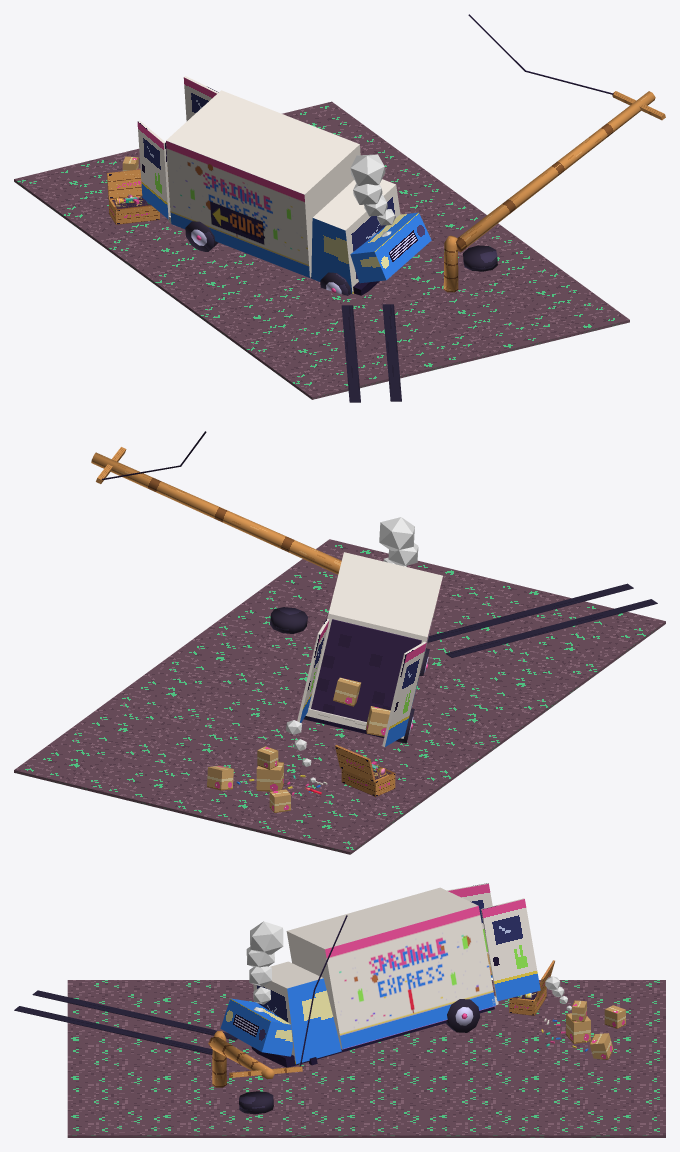
Rendered from Gun Crate Wreck.fbx.
The picture shows the model from 3 angles, top to bottom: view 1: azimuth 30°, elevation 25°; view 2: azimuth 150°, elevation 25°; view 3: azimuth 270°, elevation 25°; orthographic projection. The views are drawn at different scales.
Visible parts, largest first — view 1: Gun Crate Wreck shoulder, Gun Crate Wreck van box, Gun Crate Wreck van cab, Gun Crate Wreck van hood.001, Gun Crate Wreck fallen pole.001, Gun Crate Wreck rear door -1.001, Gun Crate Wreck skid mark 1, Gun Crate Wreck skid mark 0, Gun Crate Wreck crate lid.001, Gun Crate Wreck van smoke 4, Gun Crate Wreck gun crate.001, Gun Crate Wreck rear door 1.001 (+2 smaller); view 2: Gun Crate Wreck shoulder, Gun Crate Wreck van box, Gun Crate Wreck rear opening, Gun Crate Wreck fallen pole.001, Gun Crate Wreck rear door -1.001, Gun Crate Wreck skid mark 0, Gun Crate Wreck skid mark 1, Gun Crate Wreck van smoke 4, Gun Crate Wreck gun crate.001, Gun Crate Wreck rear door 1.001, Gun Crate Wreck loose wheel tire, Gun Crate Wreck crate lid.001 (+2 smaller); view 3: Gun Crate Wreck shoulder, Gun Crate Wreck van box, Gun Crate Wreck van cab, Gun Crate Wreck rear door 1.001, Gun Crate Wreck van hood.001, Gun Crate Wreck skid mark 1, Gun Crate Wreck skid mark 0, Gun Crate Wreck van smoke 4, Gun Crate Wreck fallen pole.001, Gun Crate Wreck van chassis, Gun Crate Wreck rear door -1.001, Gun Crate Wreck loose wheel tire (+8 smaller).
Part boxes in pixels (left/top/right/bottom): Gun Crate Wreck shoulder: left=14, top=101, right=629, bottom=399; Gun Crate Wreck van box: left=166, top=90, right=360, bottom=277; Gun Crate Wreck van cab: left=311, top=179, right=400, bottom=294; Gun Crate Wreck van hood.001: left=350, top=212, right=431, bottom=283; Gun Crate Wreck fallen pole.001: left=456, top=91, right=655, bottom=252; Gun Crate Wreck rear door -1.001: left=137, top=120, right=170, bottom=219; Gun Crate Wreck skid mark 1: left=382, top=304, right=401, bottom=401; Gun Crate Wreck skid mark 0: left=341, top=305, right=360, bottom=402; Gun Crate Wreck crate lid.001: left=106, top=169, right=142, bottom=199; Gun Crate Wreck van smoke 4: left=350, top=154, right=385, bottom=185; Gun Crate Wreck gun crate.001: left=109, top=195, right=159, bottom=224; Gun Crate Wreck rear door 1.001: left=183, top=76, right=218, bottom=121; Gun Crate Wreck shoulder: left=14, top=539, right=665, bottom=854; Gun Crate Wreck van box: left=308, top=552, right=442, bottom=708; Gun Crate Wreck rear opening: left=311, top=619, right=421, bottom=721; Gun Crate Wreck fallen pole.001: left=91, top=452, right=341, bottom=574; Gun Crate Wreck rear door -1.001: left=382, top=641, right=426, bottom=747; Gun Crate Wreck skid mark 0: left=445, top=599, right=657, bottom=657; Gun Crate Wreck skid mark 1: left=427, top=583, right=633, bottom=642; Gun Crate Wreck van smoke 4: left=379, top=517, right=414, bottom=551; Gun Crate Wreck gun crate.001: left=341, top=766, right=395, bottom=796; Gun Crate Wreck rear door 1.001: left=297, top=619, right=329, bottom=722; Gun Crate Wreck loose wheel tire: left=270, top=607, right=307, bottom=633; Gun Crate Wreck crate lid.001: left=335, top=745, right=375, bottom=782; Gun Crate Wreck shoulder: left=67, top=980, right=665, bottom=1137; Gun Crate Wreck van box: left=286, top=887, right=495, bottom=1049; Gun Crate Wreck van cab: left=253, top=961, right=341, bottom=1064; Gun Crate Wreck rear door 1.001: left=481, top=898, right=540, bottom=1001; Gun Crate Wreck van hood.001: left=220, top=998, right=292, bottom=1056; Gun Crate Wreck skid mark 1: left=14, top=1006, right=212, bottom=1054; Gun Crate Wreck skid mark 0: left=32, top=990, right=237, bottom=1040; Gun Crate Wreck van smoke 4: left=250, top=921, right=283, bottom=954; Gun Crate Wreck fallen pole.001: left=208, top=1037, right=274, bottom=1079; Gun Crate Wreck van chassis: left=251, top=1006, right=494, bottom=1067; Gun Crate Wreck rear door -1.001: left=447, top=883, right=492, bottom=977; Gun Crate Wreck loose wheel tire: left=239, top=1091, right=273, bottom=1114.
Bounding box in the file's own units: 11.13 × 5.36 × 14.17.
Materials: 44 (39 with a texture image).
